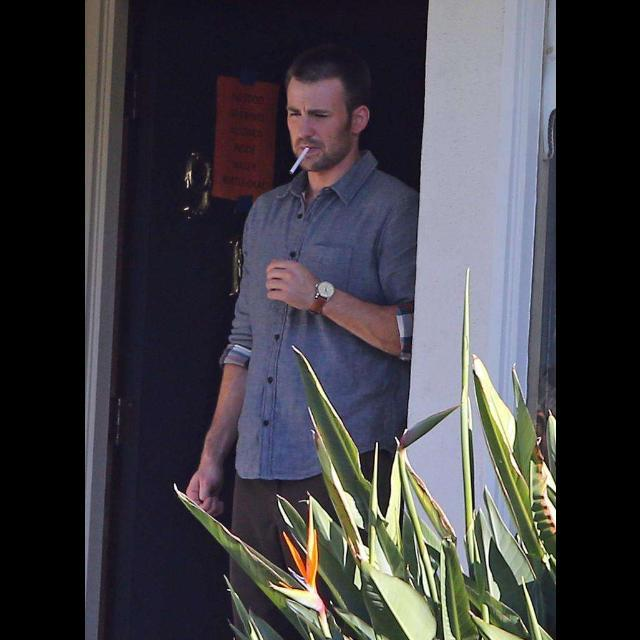rokok: (284, 147, 314, 173)
